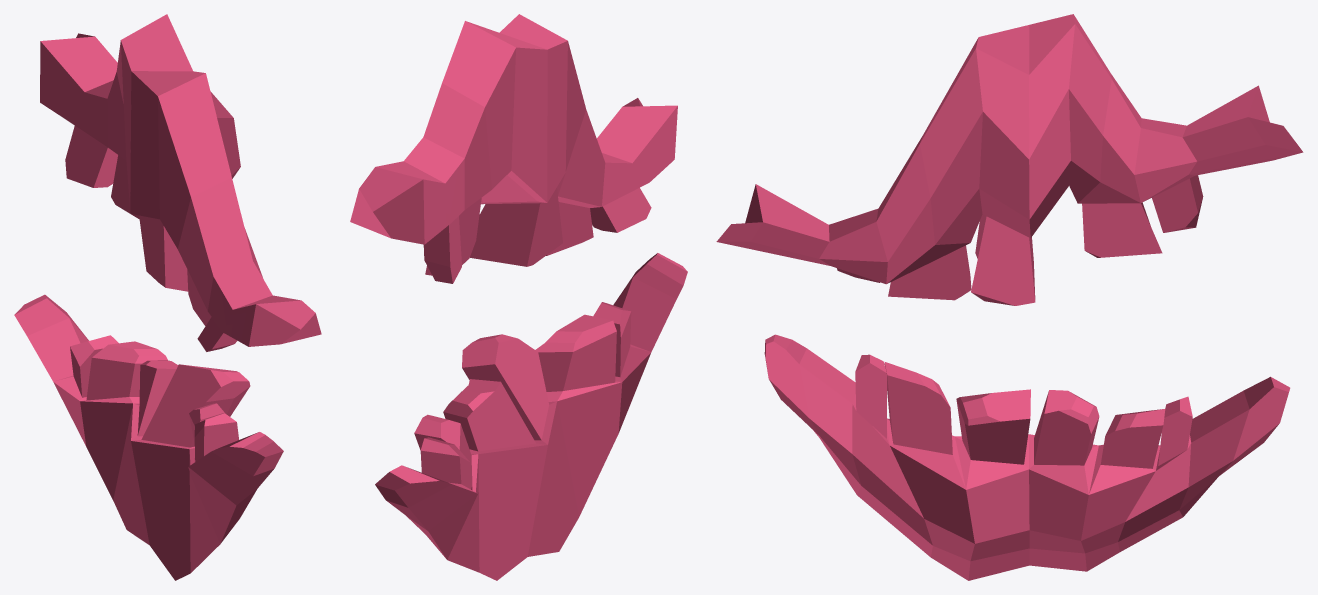
Rendered from 无标题.fbx.
3 views of the same model, side by side, from view 1: azimuth 30°, elevation 25°; view 2: azimuth 150°, elevation 25°; view 3: azimuth 270°, elevation 25° (orthographic). The views are drawn at different scales.
Visible parts, largest first — view 1: 平面.001; view 2: 平面.001; view 3: 平面.001.
Boxes of the visible parts, left/top/right/bottom form: 平面.001: left=14, top=14, right=321, bottom=580; 平面.001: left=350, top=14, right=687, bottom=580; 平面.001: left=716, top=14, right=1303, bottom=580.
Size of the model in its own units: 1.02 by 3.9 by 3.58.
